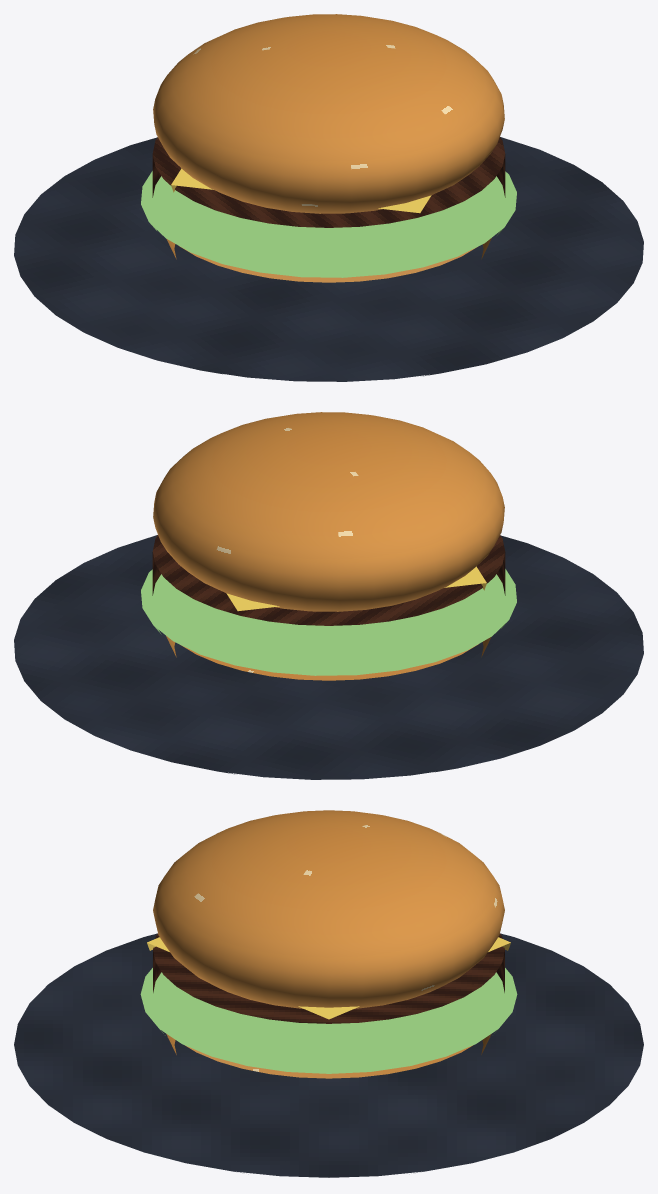
File: gyozas.glb
The picture shows the model from 3 angles, top to bottom: view 1: azimuth 30°, elevation 25°; view 2: azimuth 150°, elevation 25°; view 3: azimuth 270°, elevation 25°; orthographic projection.
Parts seen in each view (by area): view 1: PlateBase, TopBun, LettuceLayer, WagyuPattyMesh, BottomBun, CheddarSlice; view 2: PlateBase, TopBun, LettuceLayer, WagyuPattyMesh, BottomBun, CheddarSlice; view 3: PlateBase, TopBun, LettuceLayer, WagyuPattyMesh, BottomBun, CheddarSlice.
Part boxes in pixels (left/top/right/bottom): PlateBase: left=14, top=137, right=643, bottom=381; TopBun: left=153, top=14, right=504, bottom=213; LettuceLayer: left=141, top=171, right=516, bottom=277; WagyuPattyMesh: left=152, top=137, right=505, bottom=227; BottomBun: left=166, top=238, right=491, bottom=282; CheddarSlice: left=171, top=168, right=431, bottom=213; PlateBase: left=14, top=535, right=643, bottom=779; TopBun: left=153, top=412, right=504, bottom=611; LettuceLayer: left=141, top=569, right=516, bottom=675; WagyuPattyMesh: left=152, top=535, right=505, bottom=625; BottomBun: left=166, top=636, right=491, bottom=680; CheddarSlice: left=226, top=566, right=486, bottom=611; PlateBase: left=14, top=933, right=643, bottom=1177; TopBun: left=153, top=810, right=504, bottom=1008; LettuceLayer: left=140, top=968, right=517, bottom=1073; WagyuPattyMesh: left=153, top=933, right=504, bottom=1023; BottomBun: left=166, top=1034, right=491, bottom=1078; CheddarSlice: left=147, top=937, right=510, bottom=1019.
Bounding box in the file's own units: 2.04 × 0.82 × 2.04.
6 materials, 3 textured.
